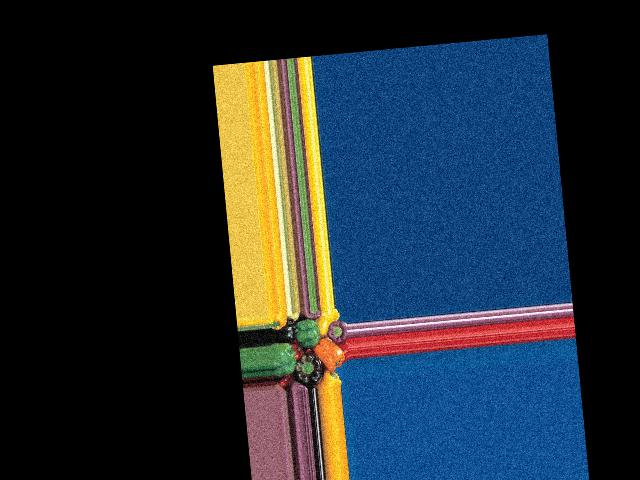bell_pepper: (269, 343, 294, 378)
